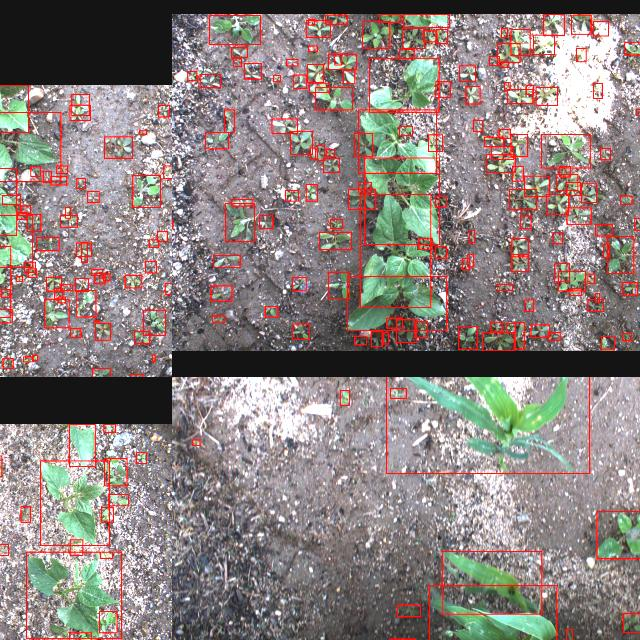crop: (386, 377, 589, 473), (27, 552, 122, 638), (360, 193, 430, 307), (429, 585, 557, 640), (364, 158, 440, 245), (442, 550, 542, 614), (40, 460, 110, 544), (347, 276, 447, 330), (358, 109, 436, 173), (0, 111, 61, 180), (369, 57, 439, 111), (0, 215, 32, 267), (0, 84, 29, 131), (69, 424, 95, 466), (0, 167, 16, 234), (0, 245, 11, 316), (404, 14, 450, 26), (104, 423, 116, 431), (566, 629, 572, 640)
weed: (597, 511, 640, 559), (542, 133, 590, 167), (210, 14, 260, 44), (226, 203, 254, 241), (608, 235, 634, 272), (132, 175, 160, 207), (316, 87, 352, 109), (362, 20, 390, 48), (44, 299, 70, 327), (104, 458, 128, 484), (104, 136, 132, 158), (319, 231, 351, 249), (482, 332, 514, 350), (348, 188, 376, 208), (558, 271, 586, 291), (328, 272, 349, 298), (524, 176, 550, 197), (486, 154, 516, 172), (509, 189, 536, 209), (143, 310, 165, 334), (291, 130, 313, 154), (510, 28, 530, 54), (76, 290, 95, 316), (458, 326, 478, 349), (353, 132, 372, 156), (402, 27, 424, 47), (396, 320, 416, 342), (547, 194, 569, 214), (498, 42, 520, 62), (544, 13, 564, 34), (306, 19, 330, 36), (534, 34, 554, 54), (510, 134, 528, 156), (536, 86, 558, 104), (328, 54, 356, 68), (567, 207, 591, 223), (508, 88, 532, 104), (571, 13, 591, 32), (71, 94, 89, 115), (556, 173, 578, 190), (272, 118, 298, 132), (99, 612, 117, 632), (206, 132, 228, 148), (213, 255, 240, 267), (623, 613, 640, 632), (70, 104, 90, 120), (210, 286, 232, 300), (244, 62, 262, 78), (307, 63, 323, 81), (512, 238, 528, 256), (512, 254, 528, 272), (554, 263, 570, 281), (36, 238, 59, 250), (491, 146, 513, 158), (398, 605, 420, 617), (514, 323, 524, 349), (96, 322, 110, 340), (292, 324, 310, 338), (466, 85, 480, 103), (582, 184, 596, 202), (200, 74, 220, 86), (224, 108, 234, 132), (530, 325, 550, 337), (109, 493, 129, 505), (27, 213, 41, 230), (125, 274, 142, 288), (46, 277, 62, 291), (76, 242, 92, 256), (323, 158, 339, 172), (436, 81, 450, 97), (459, 66, 475, 80), (428, 134, 442, 150), (414, 321, 428, 337), (594, 20, 608, 36), (134, 331, 150, 344), (61, 214, 78, 226), (309, 82, 329, 92), (484, 136, 504, 146), (601, 336, 615, 350), (566, 181, 580, 195), (306, 184, 318, 200), (622, 282, 638, 294), (588, 299, 604, 311), (596, 224, 612, 236), (101, 506, 113, 522), (75, 278, 88, 292), (2, 194, 20, 204), (625, 42, 640, 54), (437, 28, 448, 44), (70, 632, 92, 640), (292, 278, 306, 290), (294, 74, 306, 88), (512, 166, 524, 180), (70, 540, 82, 554), (93, 368, 111, 377), (231, 46, 247, 56), (232, 198, 252, 206), (326, 14, 346, 22), (380, 13, 400, 21), (387, 318, 403, 328), (21, 506, 31, 522), (390, 388, 406, 398), (0, 309, 12, 322), (260, 215, 272, 228), (371, 332, 382, 346), (158, 104, 170, 116), (343, 70, 355, 82), (520, 216, 532, 228), (264, 307, 278, 317), (285, 190, 299, 200), (358, 182, 372, 192), (400, 48, 414, 58), (418, 238, 432, 248), (576, 47, 586, 61), (340, 390, 350, 404), (88, 190, 99, 202), (51, 176, 67, 184), (594, 82, 602, 98), (24, 262, 36, 272), (81, 242, 87, 262), (95, 272, 105, 284), (146, 260, 156, 272), (424, 30, 436, 40), (400, 125, 412, 135), (436, 246, 446, 258), (490, 322, 502, 332), (600, 147, 610, 159), (436, 196, 446, 207), (473, 119, 482, 131), (164, 164, 172, 177), (3, 358, 13, 368), (70, 328, 80, 338), (31, 165, 41, 175), (157, 231, 167, 241), (524, 300, 534, 310), (560, 166, 570, 176), (500, 128, 510, 138), (136, 452, 146, 462), (56, 165, 68, 173), (43, 170, 51, 182), (330, 220, 342, 228), (318, 144, 324, 160), (462, 258, 470, 270), (355, 336, 367, 344), (548, 332, 560, 340), (569, 288, 581, 296), (620, 196, 632, 204), (554, 232, 562, 244), (76, 178, 85, 188), (506, 323, 516, 332), (91, 268, 102, 276), (0, 543, 8, 554), (498, 284, 512, 290), (603, 243, 609, 257), (21, 205, 31, 213), (54, 288, 62, 298), (149, 239, 159, 247), (0, 289, 10, 297), (188, 70, 196, 80), (334, 54, 342, 64), (622, 333, 632, 341), (489, 56, 499, 64), (634, 217, 640, 230), (165, 283, 172, 294), (60, 284, 72, 290), (212, 316, 224, 322), (286, 59, 298, 65), (468, 254, 474, 266), (526, 85, 534, 94), (100, 551, 112, 557), (28, 268, 36, 276), (233, 57, 241, 65), (327, 148, 335, 156), (23, 356, 33, 362), (310, 148, 316, 158), (308, 45, 318, 51), (594, 292, 600, 302), (588, 273, 594, 283), (18, 212, 27, 218), (389, 638, 414, 640), (102, 274, 110, 280), (470, 230, 474, 242), (504, 81, 510, 89), (501, 28, 507, 36), (192, 439, 200, 445), (384, 332, 388, 343), (59, 296, 66, 302), (66, 207, 70, 217), (129, 374, 142, 377), (17, 276, 23, 282), (274, 75, 280, 81), (309, 18, 315, 24), (502, 61, 508, 67), (152, 354, 156, 362), (32, 356, 38, 360), (140, 129, 146, 133), (636, 109, 640, 115), (94, 320, 100, 320)
